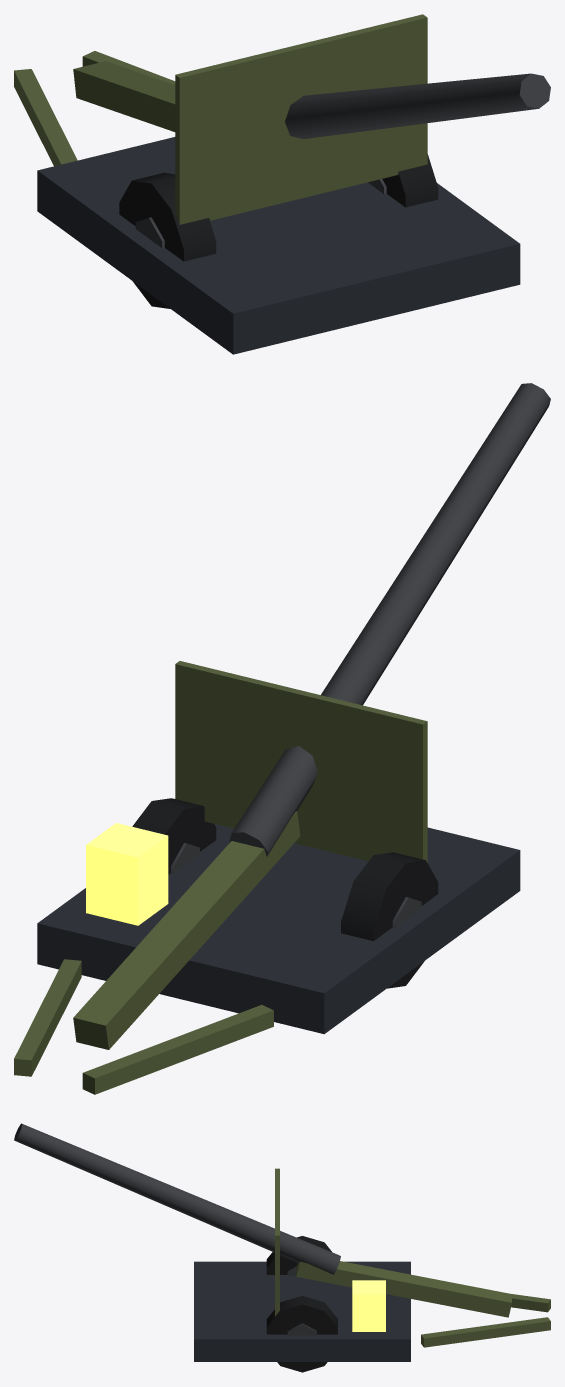
Rendered from unit_mil_gun_a08.glb.
3 renders of one model, top to bottom at view 1: azimuth 30°, elevation 25°; view 2: azimuth 150°, elevation 25°; view 3: azimuth 270°, elevation 25°, orthographic. The views are drawn at different scales.
Visible parts, largest first — view 1: body, barrel, wheel_0, wheel_1; view 2: body, barrel, wheel_0, wheel_1; view 3: body, barrel, wheel_1, wheel_0.
Boxes of the visible parts, x1,y1,x2,y2 form: body: (14, 14, 520, 354); barrel: (285, 73, 550, 138); wheel_0: (119, 172, 216, 308); wheel_1: (368, 154, 438, 207); body: (14, 661, 520, 1094); barrel: (229, 383, 550, 856); wheel_0: (341, 852, 438, 988); wheel_1: (132, 798, 216, 874); body: (194, 1168, 550, 1361); barrel: (14, 1123, 340, 1274); wheel_1: (266, 1295, 337, 1372); wheel_0: (266, 1236, 331, 1275).
Size of what is drawn, in the model's own units: 2.2 by 2.83 by 6.44.
